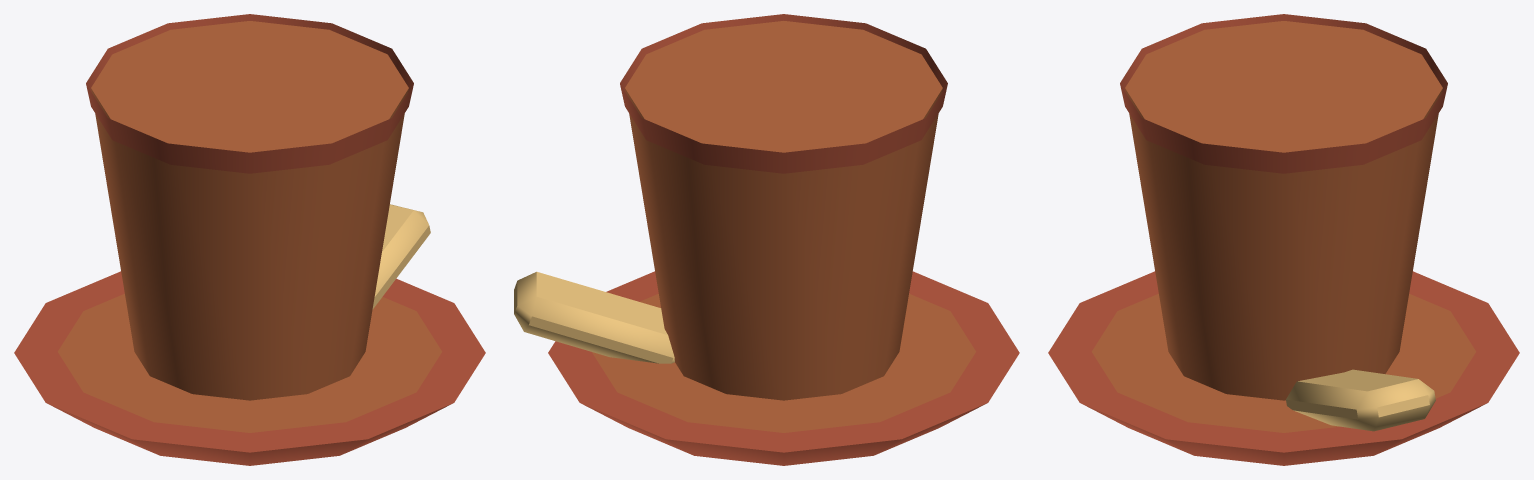
File: pass_kulhad.glb
3 renders of one model, left to right at view 1: azimuth 30°, elevation 25°; view 2: azimuth 150°, elevation 25°; view 3: azimuth 270°, elevation 25°, orthographic.
Parts seen in each view (by area): view 1: pass_kulhad; view 2: pass_kulhad; view 3: pass_kulhad.
Boxes of the visible parts, x1=… form: pass_kulhad: x1=14, y1=14, x2=485, y2=465; pass_kulhad: x1=514, y1=14, x2=1019, y2=465; pass_kulhad: x1=1048, y1=14, x2=1519, y2=465.
Size of the model in its own units: 0.1921 by 0.132 by 0.184.
Materials: 1 (1 with a texture image).
